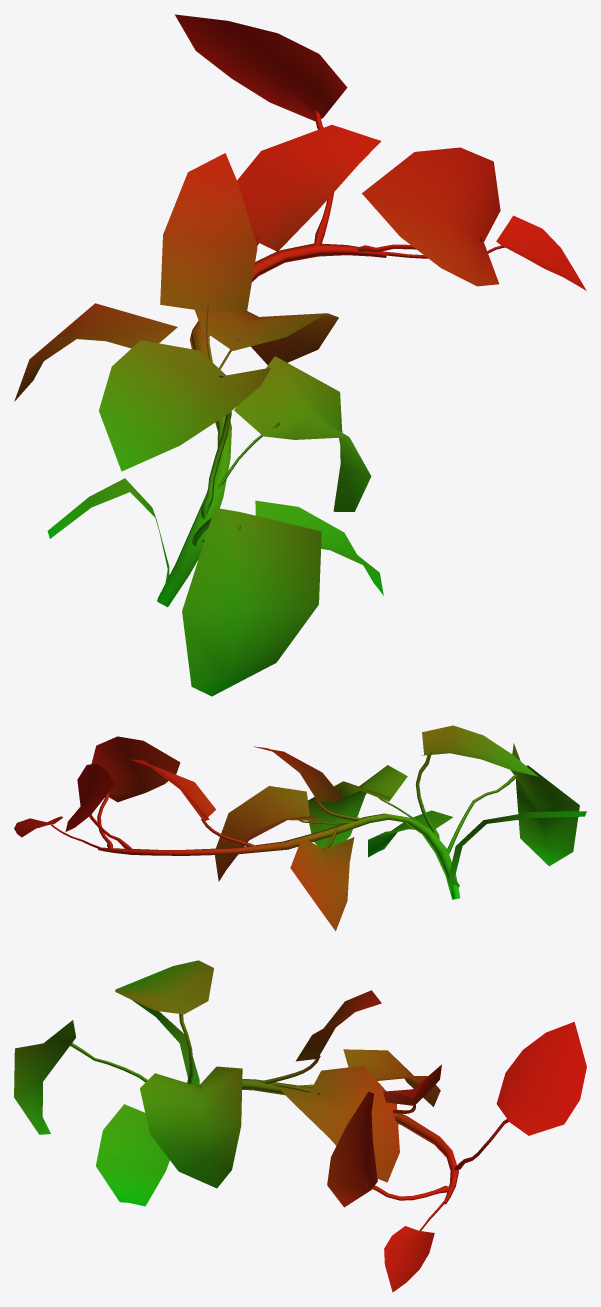
File: Money Plant_LOD1_Var5_uchmfdyia.fbx
3 views of the same model, one above another, from view 1: azimuth 30°, elevation 25°; view 2: azimuth 150°, elevation 25°; view 3: azimuth 270°, elevation 25° (orthographic). The views are drawn at different scales.
Visible parts, largest first — view 1: _29e6_Var5_LOD1; view 2: _29e6_Var5_LOD1; view 3: _29e6_Var5_LOD1.
Boxes of the visible parts, bbox=[...] form: _29e6_Var5_LOD1: bbox=[14, 14, 586, 696]; _29e6_Var5_LOD1: bbox=[14, 725, 586, 931]; _29e6_Var5_LOD1: bbox=[14, 960, 586, 1292].
Bounding box in the file's own units: 24.39 × 10.37 × 23.65.
